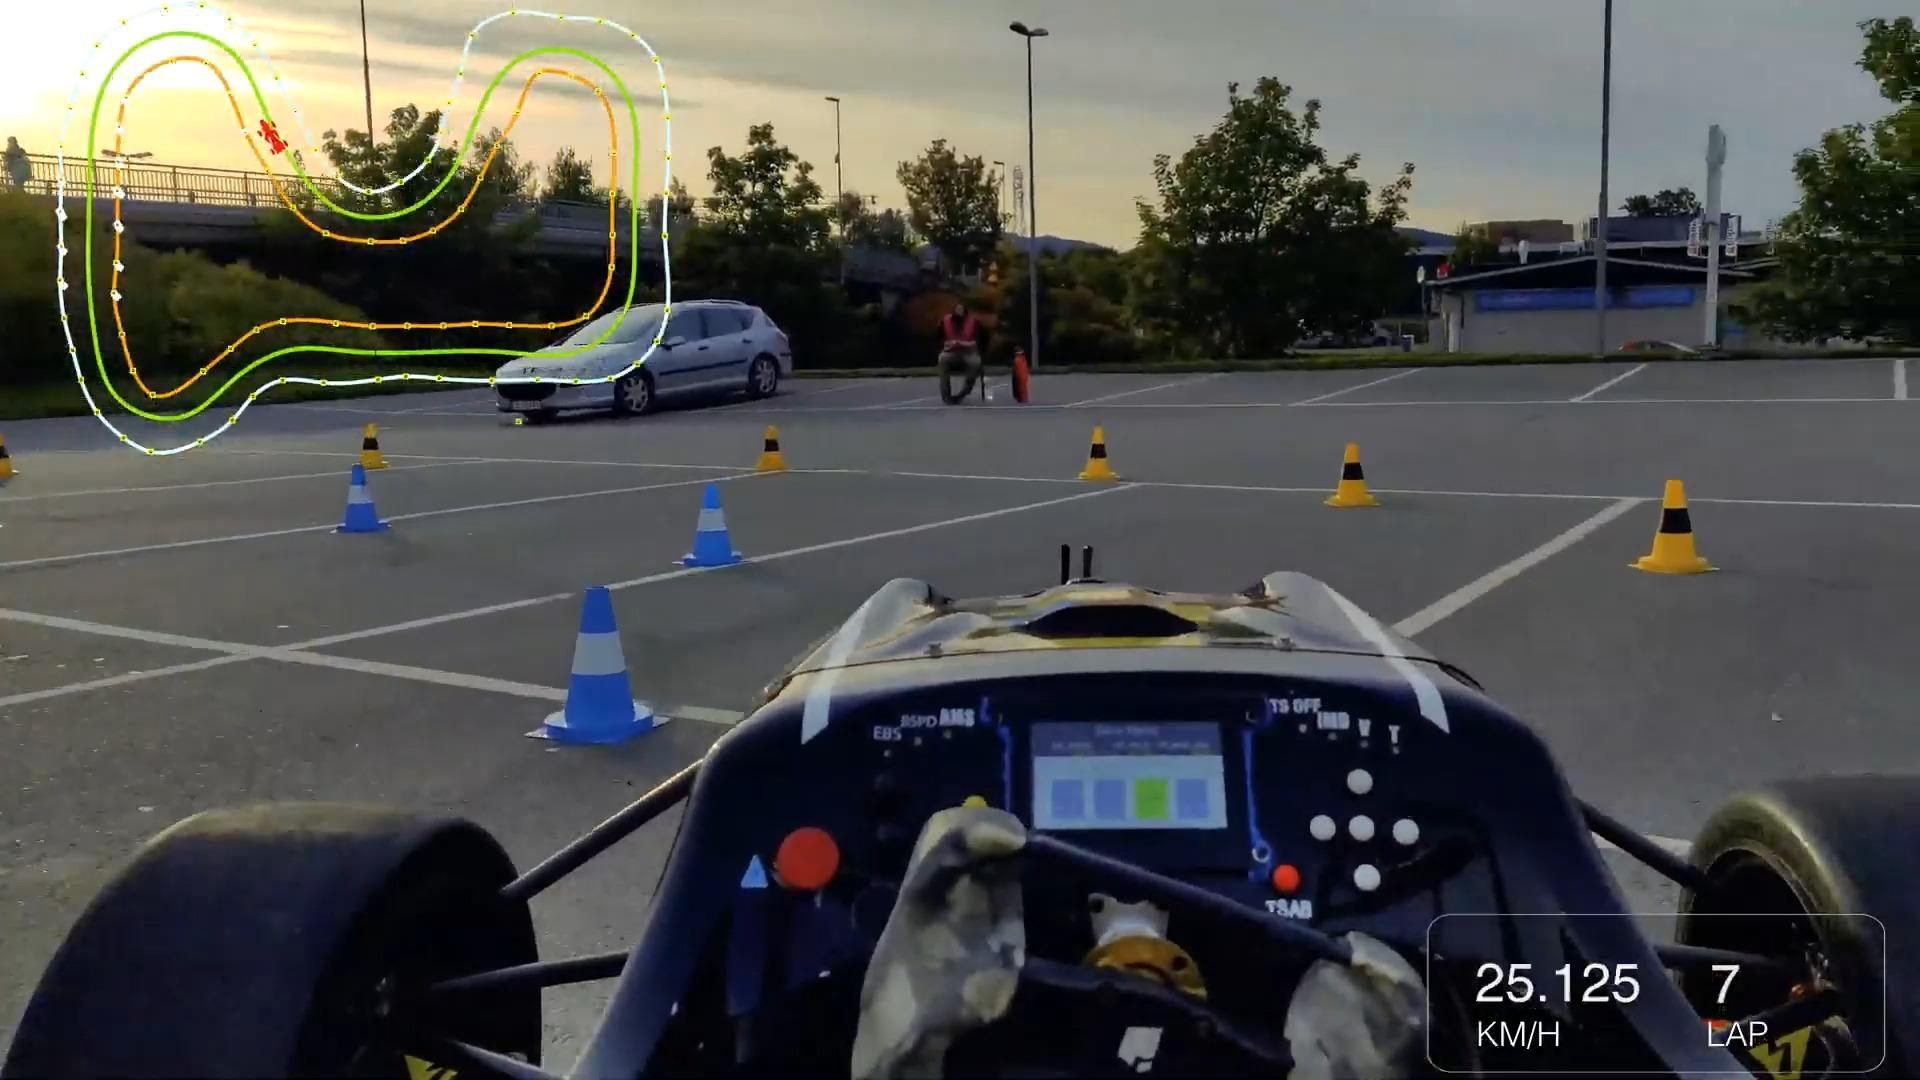blue_cone: (539, 570, 658, 757), (323, 454, 388, 546), (683, 476, 737, 579)
yellow_cone: (1625, 456, 1717, 593), (1329, 439, 1382, 514), (1075, 417, 1125, 487), (347, 414, 398, 473), (750, 406, 791, 475)
